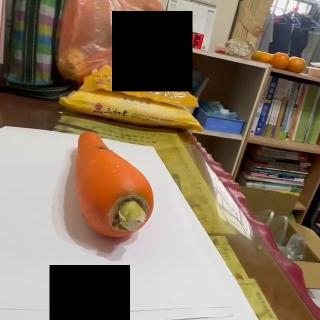carrot: (76, 131, 156, 238)
